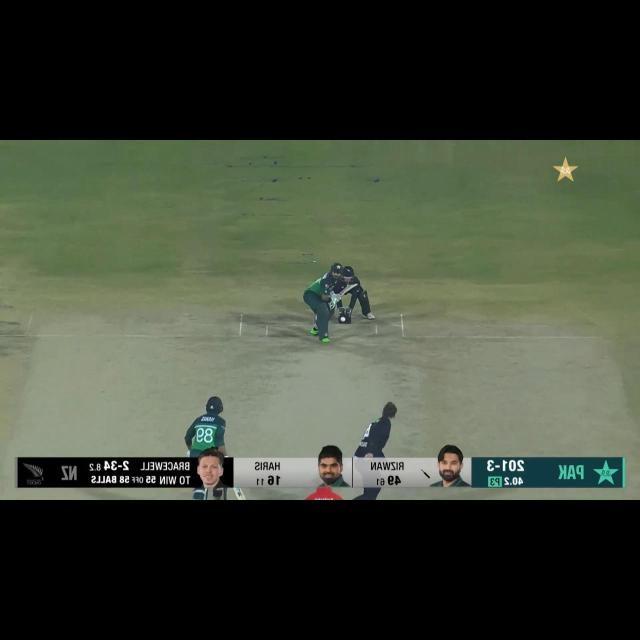bat: (338, 282, 357, 296), (232, 486, 246, 501)
toe: (234, 494, 247, 499), (346, 283, 358, 288)
